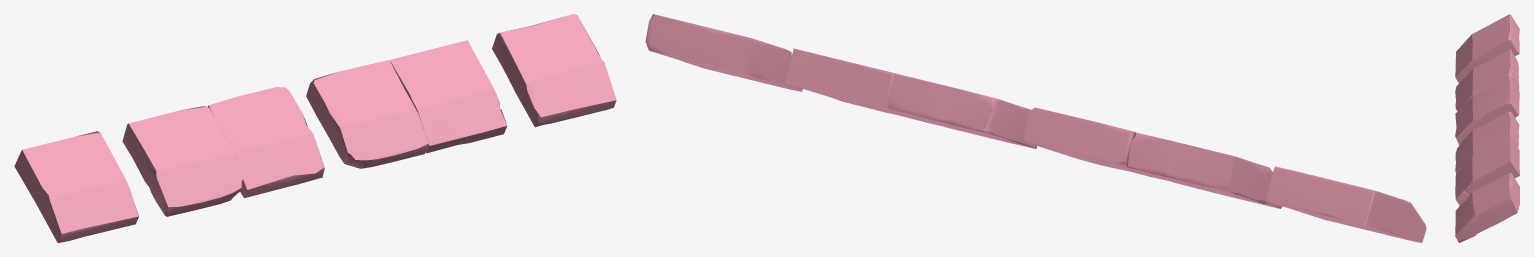
Rendered from stone_element_19_battlements_line_x3.fbx.
3 views of the same model, side by side, from view 1: azimuth 30°, elevation 25°; view 2: azimuth 150°, elevation 25°; view 3: azimuth 270°, elevation 25° (orthographic). The views are drawn at different scales.
Visible parts, largest first — view 1: stone_element_19_battlements_line_x3_LOD0; view 2: stone_element_19_battlements_line_x3_LOD0; view 3: stone_element_19_battlements_line_x3_LOD0.
Boxes of the visible parts, left/top/right/bottom form: stone_element_19_battlements_line_x3_LOD0: left=14, top=14, right=616, bottom=242; stone_element_19_battlements_line_x3_LOD0: left=645, top=14, right=1426, bottom=242; stone_element_19_battlements_line_x3_LOD0: left=1455, top=14, right=1519, bottom=242.
Size of what is drawn, in the model's own units: 307 by 35.86 by 45.59.
